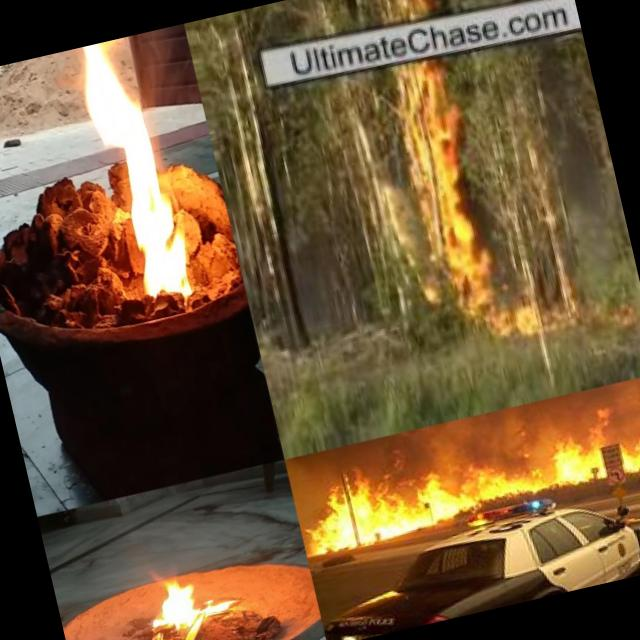fire: (298, 400, 640, 552), (54, 29, 216, 316), (370, 64, 505, 334), (130, 557, 240, 640)
